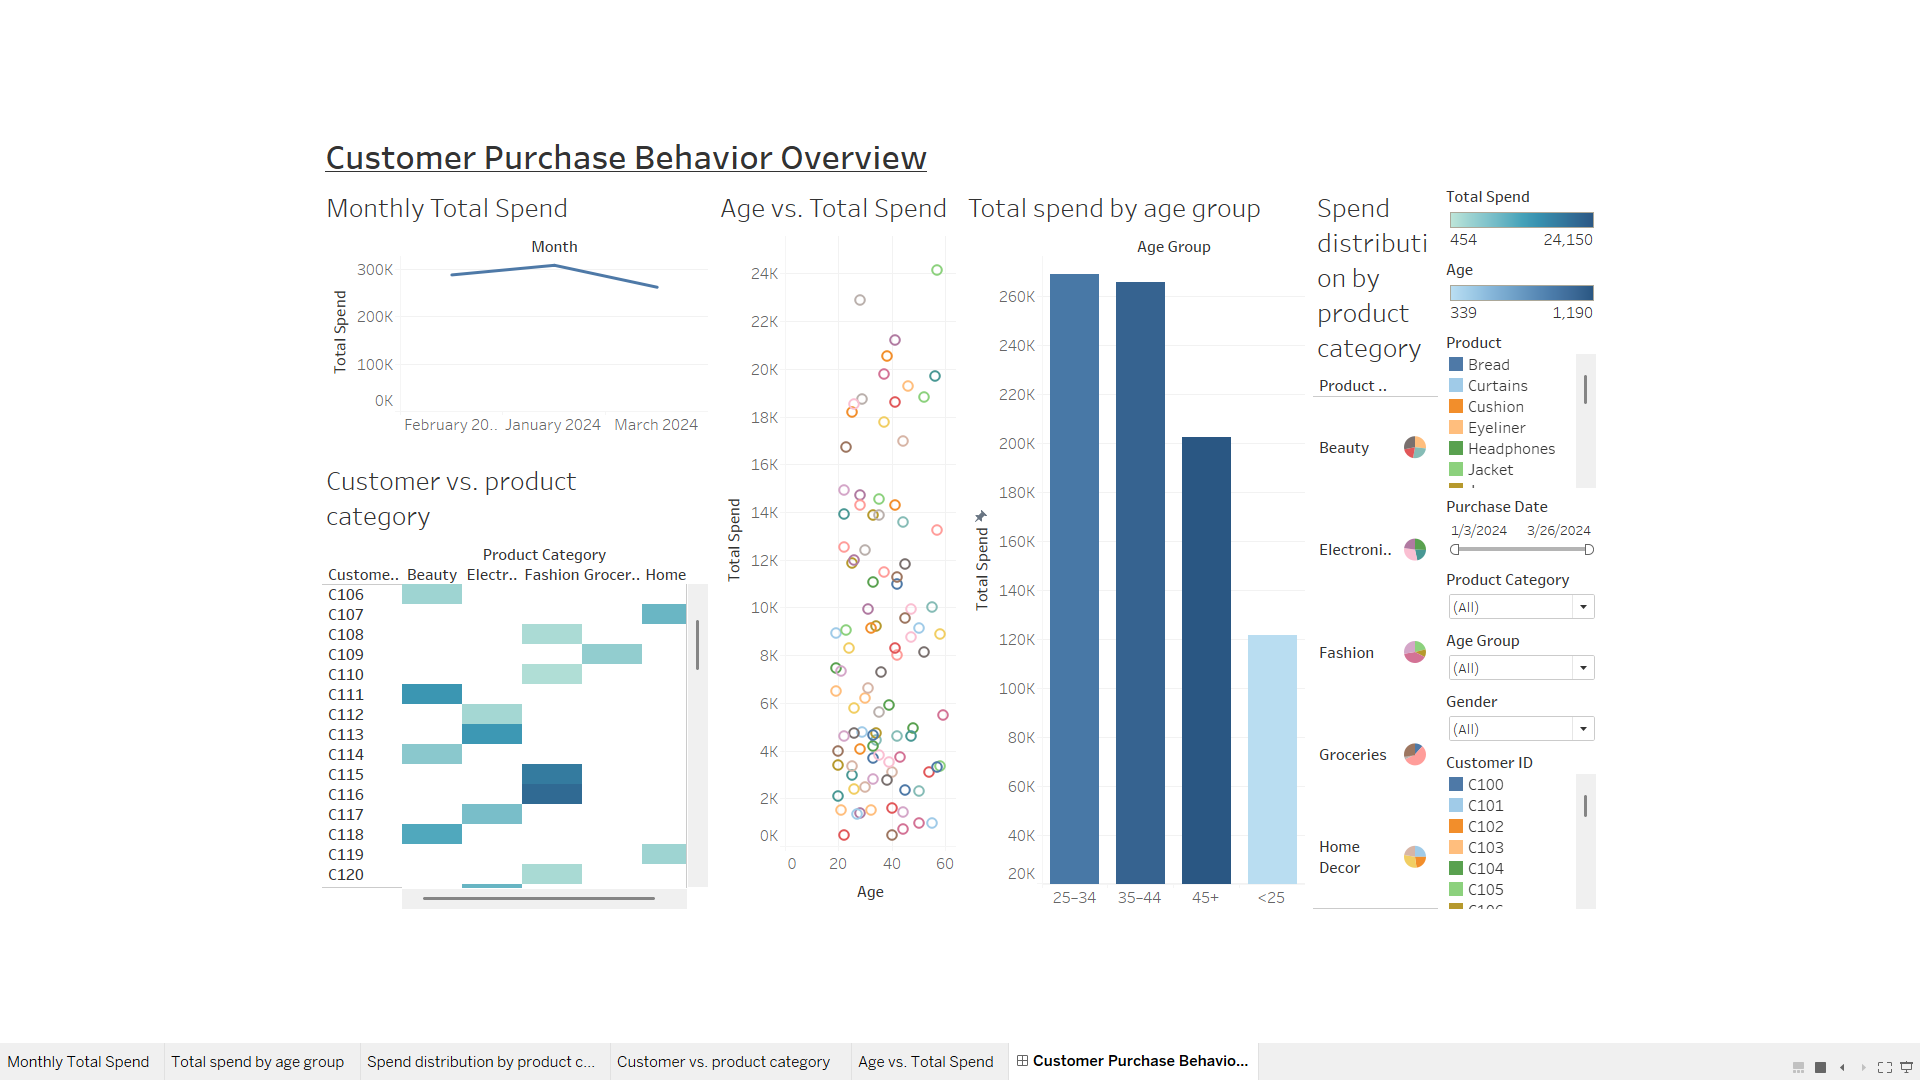

The dashboard page shown, as its layout file describes it:
{"tool":"tableau","page":{"name":"Customer Purchase Behavior Overview","canvas":[1300,800],"ordinal":0},"visuals":[{"type":"title","box":[8,8,1284,53]},{"type":"worksheet","title":"Monthly Total Spend","mark":"Line","rows":["Total Spend"],"cols":["Calculation_726486920369131520"],"box":[8,61,394,273.2]},{"type":"worksheet","title":"Age vs. Total Spend","mark":"Automatic","rows":["Total Spend"],"cols":["Age"],"box":[402,61,248,731]},{"type":"worksheet","title":"Total spend by age group","mark":"Bar","rows":["Total Spend"],"cols":["Calculation_726486920372744193"],"box":[650,61,349,731]},{"type":"worksheet","title":"Spend distribution by product category","mark":"Pie","rows":["Product Category"],"box":[999,61,133,731]},{"type":"legend","title":"Customer vs. product category ","param":"[federated.1j0551f04ca3rp1d0pji31bjh3p5].[sum:Total Spend:qk]","box":[1132,61,160,73]},{"type":"legend","title":"Total spend by age group","param":"[federated.1j0551f04ca3rp1d0pji31bjh3p5].[sum:Age:qk]","box":[1132,134,160,73]},{"type":"legend","title":"Spend distribution by product category","param":"[federated.1j0551f04ca3rp1d0pji31bjh3p5].[none:Product:nk]","box":[1132,207,160,164.5]},{"type":"worksheet","title":"Customer vs. product category ","mark":"Automatic","rows":["Customer ID"],"cols":["Product Category"],"box":[8,334.2,394,457.8]},{"type":"filter","title":"Age vs. Total Spend","param":"[federated.1j0551f04ca3rp1d0pji31bjh3p5].[none:Purchase Date:qk]","box":[1132,371.5,160,73]},{"type":"filter","title":"Age vs. Total Spend","param":"[federated.1j0551f04ca3rp1d0pji31bjh3p5].[none:Product Category:nk]","box":[1132,444.5,160,61]},{"type":"filter","title":"Age vs. Total Spend","param":"[federated.1j0551f04ca3rp1d0pji31bjh3p5].[none:Calculation_726486920372744193:nk","box":[1132,505.5,160,61]},{"type":"filter","title":"Age vs. Total Spend","param":"[federated.1j0551f04ca3rp1d0pji31bjh3p5].[none:Gender:nk]","box":[1132,566.5,160,61]},{"type":"legend","title":"Age vs. Total Spend","param":"[federated.1j0551f04ca3rp1d0pji31bjh3p5].[none:Customer ID:nk]","box":[1132,627.5,160,164.5]}]}

Visuals, with their boxes on the page's 1300x800 design canvas (x1, y1, x2, y2). These are canvas units, not pixel positions in the 1920x1080 screenshot, which may show the page scaled, cropped or inside an application window:
title: box=[8, 8, 1292, 61]
"Monthly Total Spend" worksheet (Line marks): box=[8, 61, 402, 334]
"Age vs. Total Spend" worksheet: box=[402, 61, 650, 792]
"Total spend by age group" worksheet (Bar marks): box=[650, 61, 999, 792]
"Spend distribution by product category" worksheet (Pie marks): box=[999, 61, 1132, 792]
"Customer vs. product category " legend: box=[1132, 61, 1292, 134]
"Total spend by age group" legend: box=[1132, 134, 1292, 207]
"Spend distribution by product category" legend: box=[1132, 207, 1292, 372]
"Customer vs. product category " worksheet: box=[8, 334, 402, 792]
"Age vs. Total Spend" filter: box=[1132, 372, 1292, 444]
"Age vs. Total Spend" filter: box=[1132, 444, 1292, 506]
"Age vs. Total Spend" filter: box=[1132, 506, 1292, 566]
"Age vs. Total Spend" filter: box=[1132, 566, 1292, 628]
"Age vs. Total Spend" legend: box=[1132, 628, 1292, 792]
